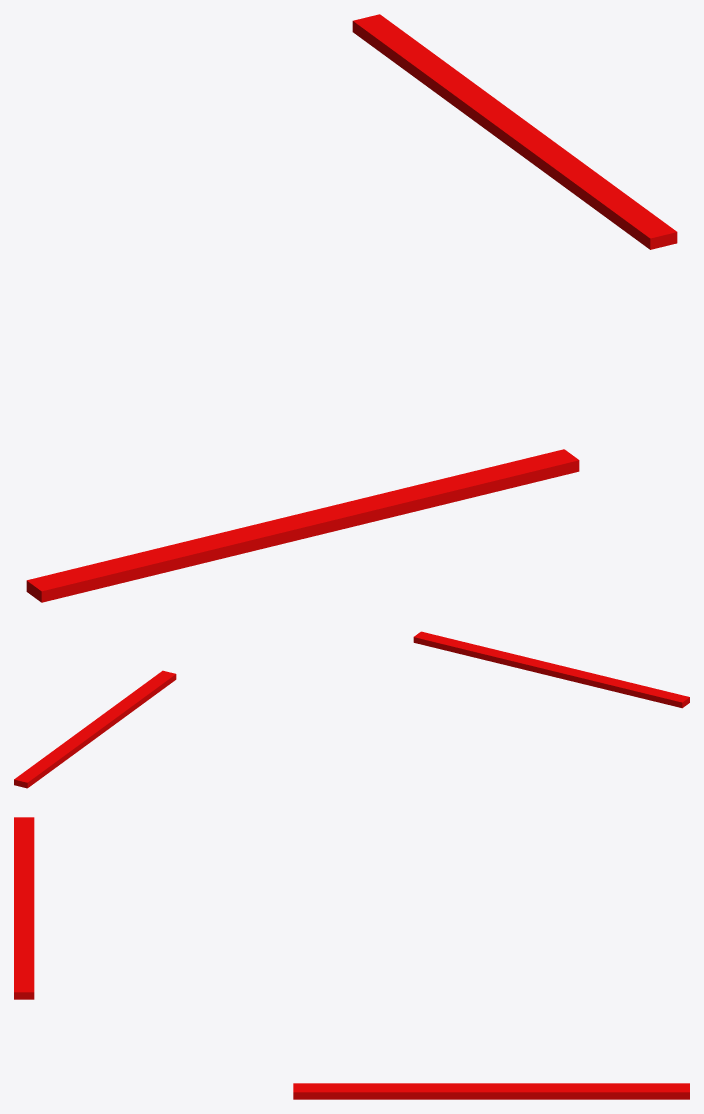
Rendered from KeepOut.FBX.
The picture shows the model from 3 angles, top to bottom: view 1: azimuth 30°, elevation 25°; view 2: azimuth 150°, elevation 25°; view 3: azimuth 270°, elevation 25°; orthographic projection. The views are drawn at different scales.
Parts seen in each view (by area): view 1: KeepOut, KeepOut001; view 2: KeepOut, KeepOut001; view 3: KeepOut001, KeepOut.
Part boxes in pixels (<box>): KeepOut: <box>26,449,579,602</box>; KeepOut001: <box>352,14,677,249</box>; KeepOut: <box>413,631,689,708</box>; KeepOut001: <box>14,670,176,788</box>; KeepOut001: <box>293,1083,689,1099</box>; KeepOut: <box>14,817,34,999</box>.
Bounding box in the file's own units: 7780 × 100 × 8082.
